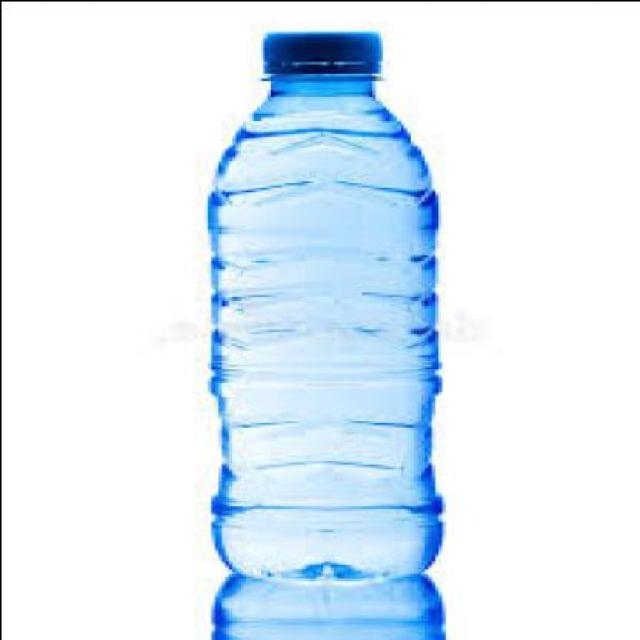PLASTIC: (216, 30, 441, 579), (266, 28, 386, 77)
